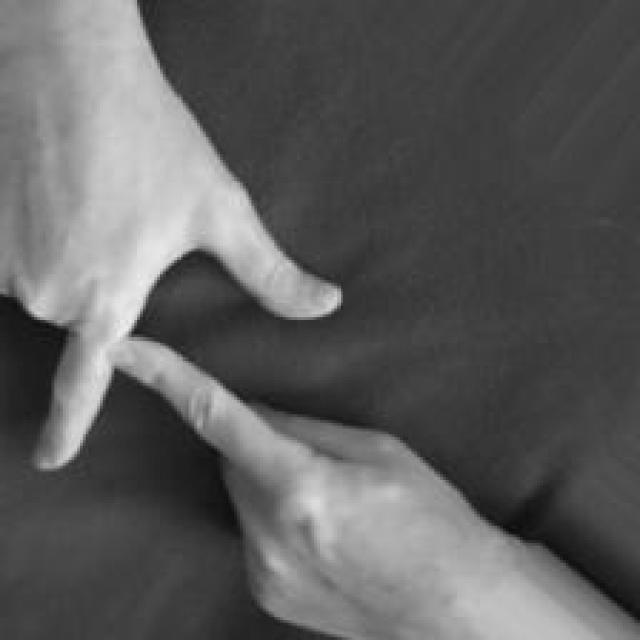F: (1, 0, 427, 640)
